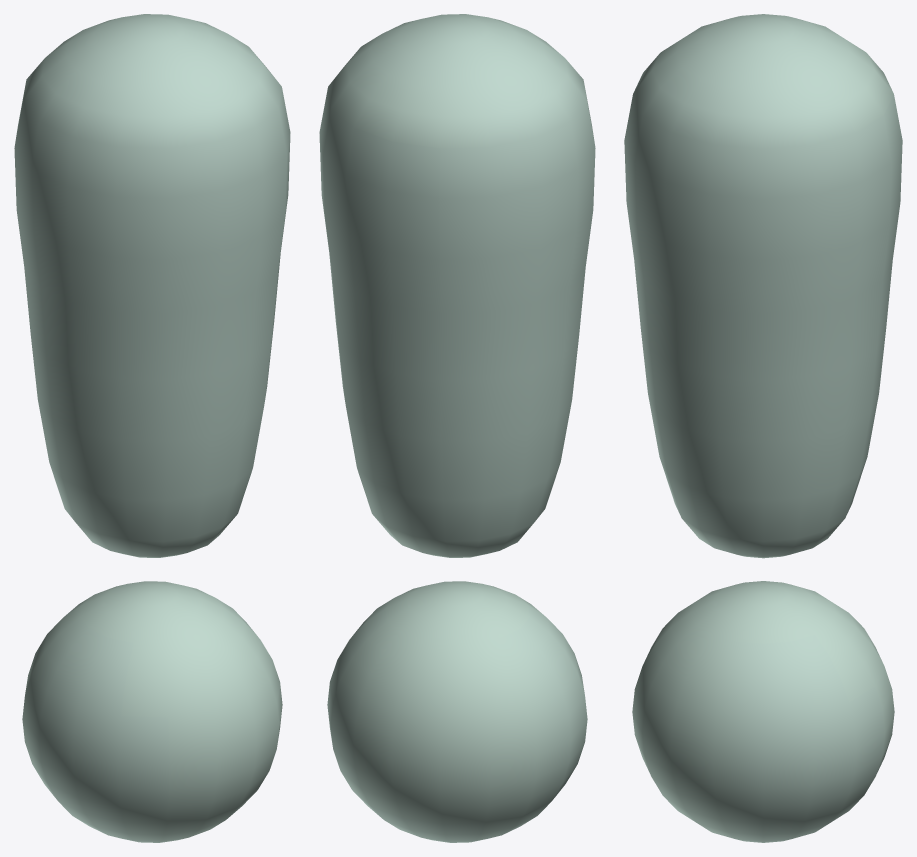
File: Exclamation mark3.fbx
3 views of the same model, side by side, from view 1: azimuth 30°, elevation 25°; view 2: azimuth 150°, elevation 25°; view 3: azimuth 270°, elevation 25° (orthographic).
Visible parts, largest first — view 1: pSphere4; view 2: pSphere4; view 3: pSphere4.
Boxes of the visible parts, left/top/right/bottom form: pSphere4: left=14, top=14, right=290, bottom=842; pSphere4: left=319, top=14, right=595, bottom=842; pSphere4: left=624, top=14, right=902, bottom=842.
Bounding box in the file's own units: 1.77 × 5.62 × 1.77.
